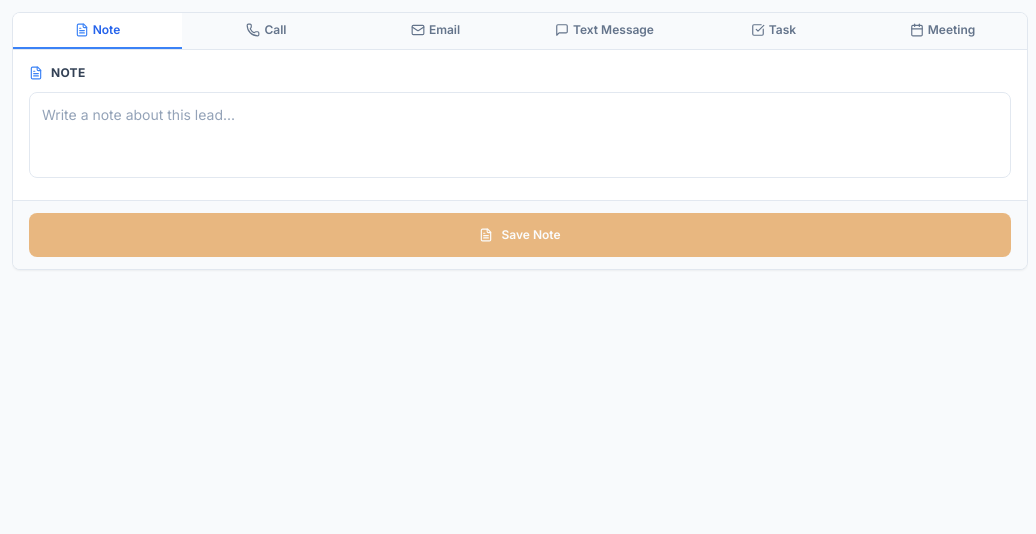
it: ActivityComposer — sending uses the one real, working email path › a lead with no email on file cannot attempt to send
Later steps or results of the test are not shown.
Click the button "Email" at {"x": 436, "y": 31}, box 351,13 -> 520,49
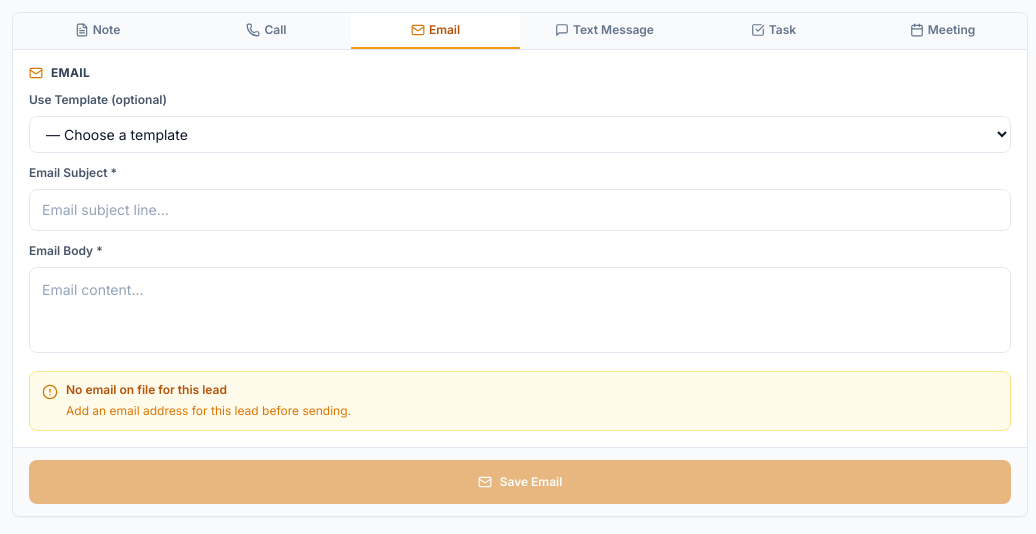
Check: the text "No email on file for this lead" is shown, box 66,382 -> 227,397
